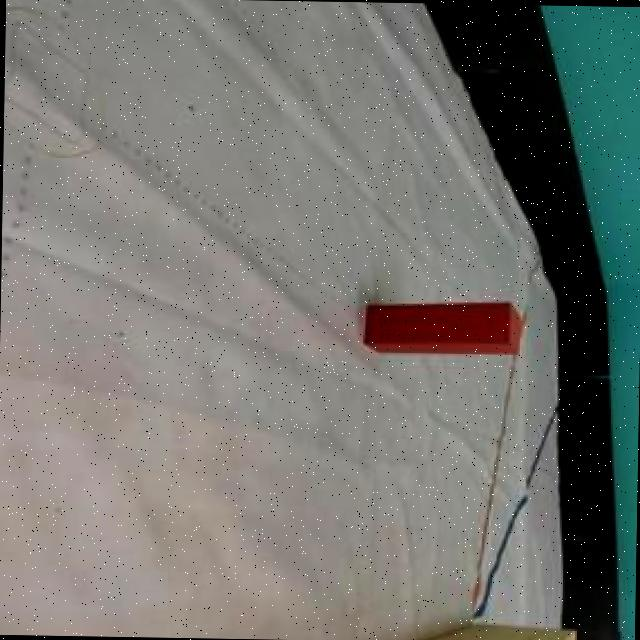redbox: (362, 299, 524, 354)
